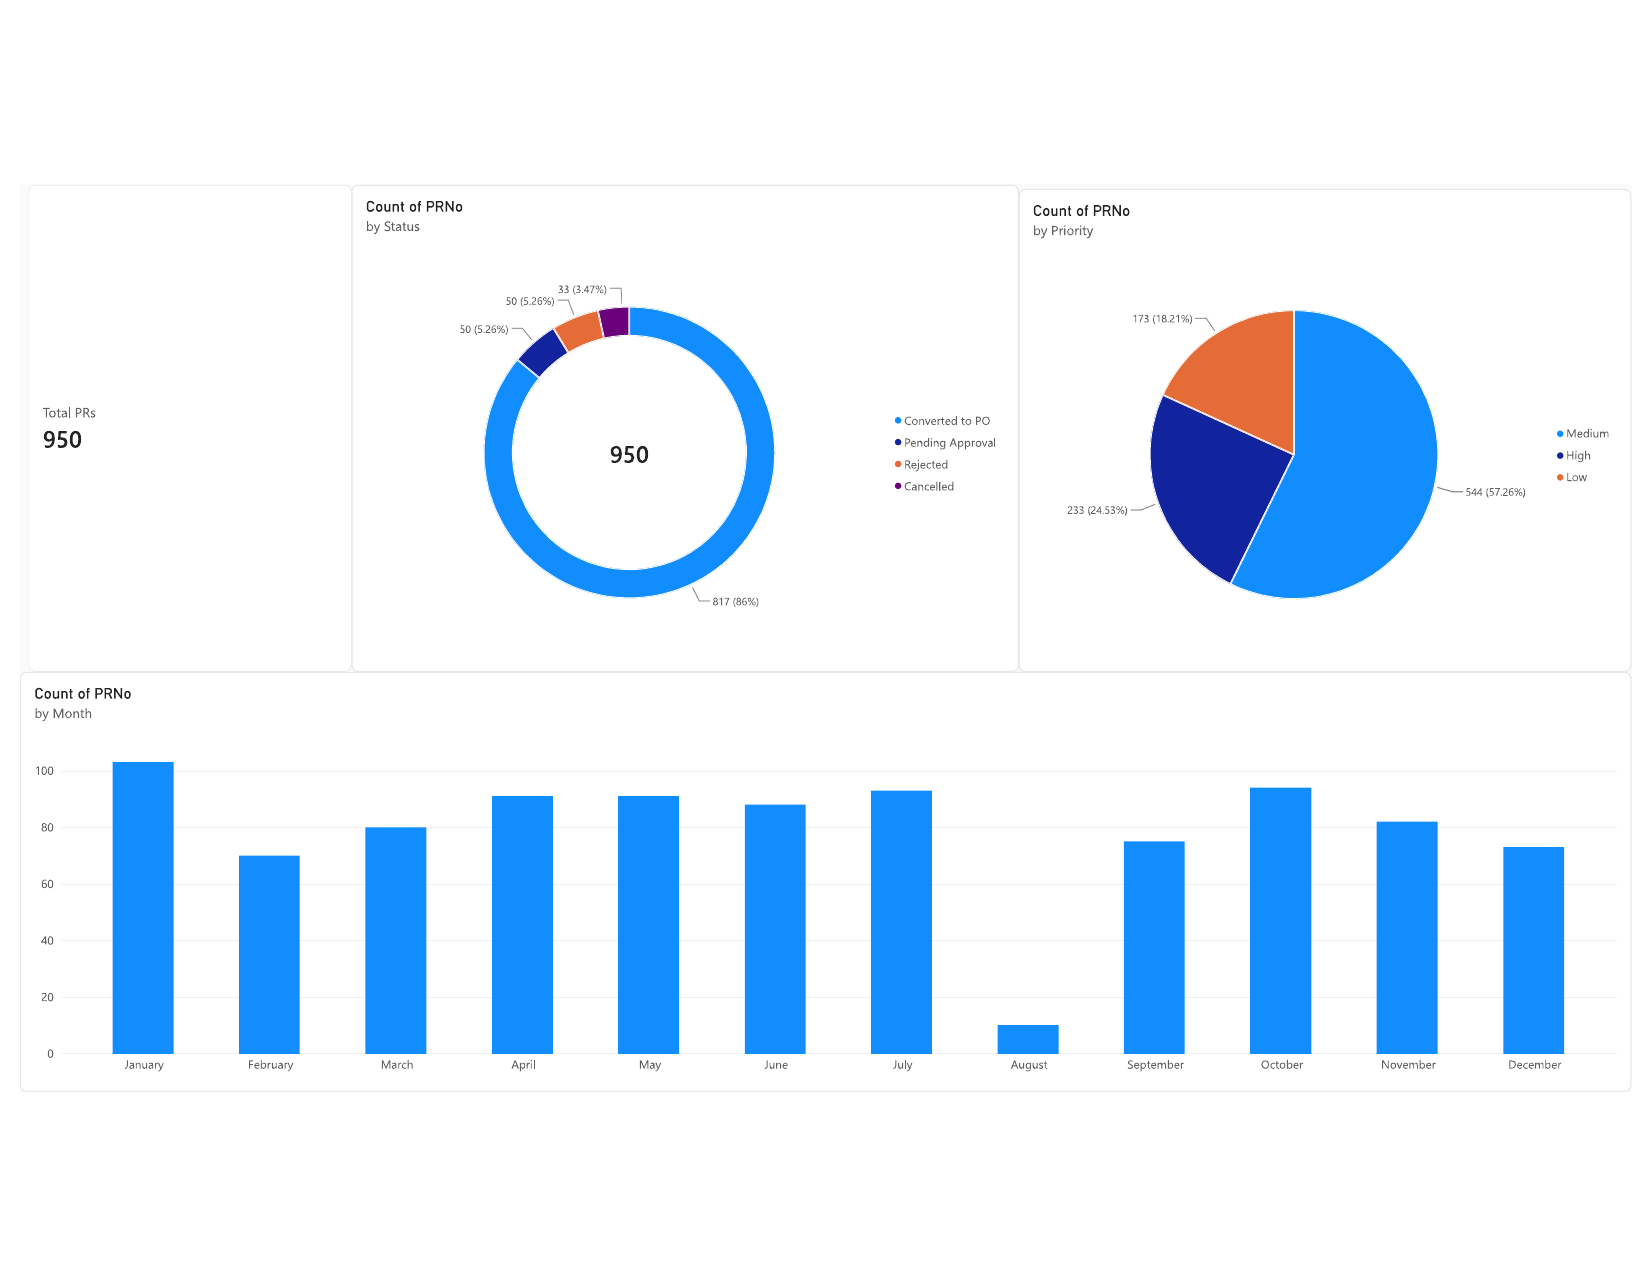

The page's visual inventory and layout, read from the dashboard file:
{"tool":"powerbi","page":{"name":"PR Processing","canvas":[1920,1080],"ordinal":4},"visuals":[{"type":"cardVisual","fields":{"Data":["PO_Data.Total PRs"]},"box":[10,0,385,580],"z":0},{"type":"columnChart","fields":{"Category":["PR_Data.PRDate.Variation.Date Hierarchy.Month"],"Y":["CountNonNull(PR_Data.PRNo)"]},"box":[0,580,1920,500],"z":1000},{"type":"donutChart","fields":{"Category":["PR_Data.Status"],"Y":["CountNonNull(PR_Data.PRNo)"]},"box":[395,0,795,580],"z":2000},{"type":"pieChart","fields":{"Category":["PR_Data.Priority"],"Y":["CountNonNull(PR_Data.PRNo)"]},"box":[1190,5,730,575],"z":3000}]}

Visuals, with their boxes on the page's 1920x1080 design canvas (x1, y1, x2, y2). These are canvas units, not pixel positions in the 1650x1275 screenshot, which may show the page scaled, cropped or inside an application window:
cardVisual - PO_Data.Total PRs: box(10, 0, 395, 580)
columnChart - PR_Data.PRDate.Variation.Date Hierarchy.Month x CountNonNull(PR_Data.PRNo): box(0, 580, 1920, 1080)
donutChart - PR_Data.Status x CountNonNull(PR_Data.PRNo): box(395, 0, 1190, 580)
pieChart - PR_Data.Priority x CountNonNull(PR_Data.PRNo): box(1190, 5, 1920, 580)
